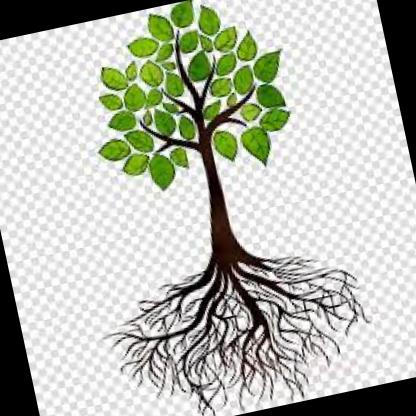branch_sharp: (120, 16, 269, 171)
root_only: (91, 222, 383, 416)
trunk_straight: (192, 165, 242, 253)
